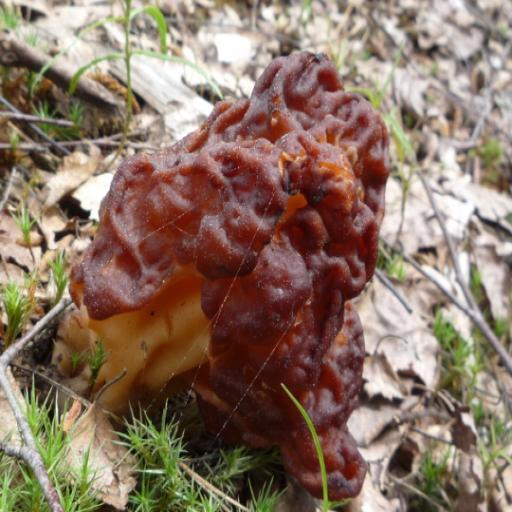mushroom: (40, 24, 479, 493)
